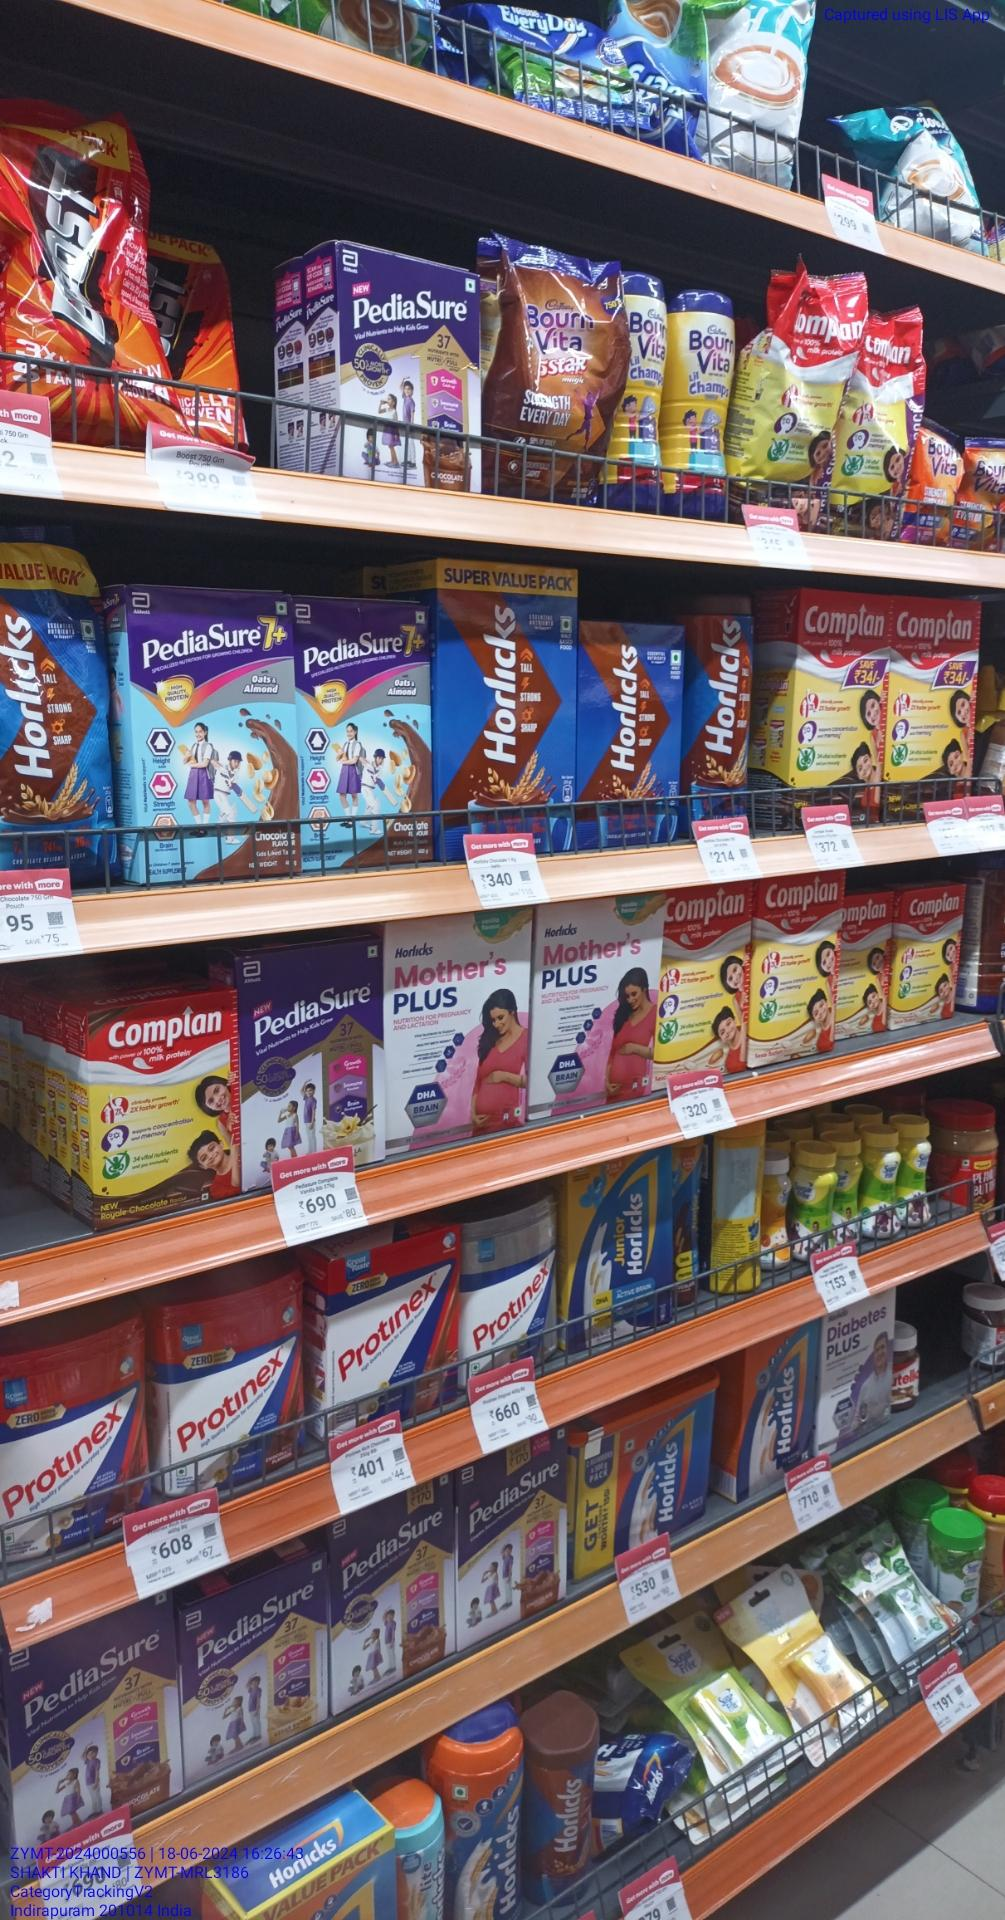BOURN_VITA_CHAMPS_500_G_JAR: (672, 290, 733, 518), (617, 274, 668, 510)
BOURN_VITA_FIVE_STAR_MAGIC_750_G_POUCH: (489, 240, 609, 504)
COMPLAN_CHOCOLATE_500_GMS_PACK: (94, 1012, 240, 1195)
COMPLAN_KESAR_BADAM_200_GMS_PACK: (892, 893, 954, 1030), (835, 891, 889, 1041)
COMPLAN_KESAR_BADAM_500_GMS_PACK: (659, 886, 747, 1073), (751, 886, 833, 1064)
COMPLAN_RC_POUCH_700_GMS_12: (743, 277, 842, 502), (849, 311, 924, 530)
HORLICK_CHOCOLATE_1_KG_JAR: (685, 596, 751, 818)
HORLICK_CHOCOLATE_1_KG_PACK: (438, 555, 576, 822)
HORLICK_CHOCOLATE_500_G_JAR: (527, 1727, 598, 1905)
HORLICK_CHOCOLATE_500_G_PACK: (581, 622, 678, 842)
HORLICK_CHOCOLATE_750_G_POUCH: (0, 524, 109, 865)
HORLICK_CLASSIC_MALT_500_G_JAR: (451, 1731, 522, 1920)
HORLICK_CLASSIC_MALT_500_G_PACK: (739, 1346, 816, 1474)
HORLICK_MALT_1_KG_CONTAINER: (570, 1401, 715, 1526)
PEDIASURE_7_PLUS_CHOCOLATE_400_G_PACK: (133, 587, 296, 879), (302, 598, 431, 862)
PEDIASURE_CHOCOLATE_500_G_PACK: (341, 243, 482, 483), (18, 1617, 172, 1820), (332, 1516, 452, 1672), (459, 1463, 565, 1613)
PEDIASURE_VANILLA_500_G_PACK: (246, 954, 384, 1144)
PROTINEX_CHOCOLATE_400_G_JAR: (0, 1328, 152, 1511), (158, 1299, 304, 1457)
PROTINEX_ORIGINAL_400_G_JAR: (464, 1215, 558, 1347)
